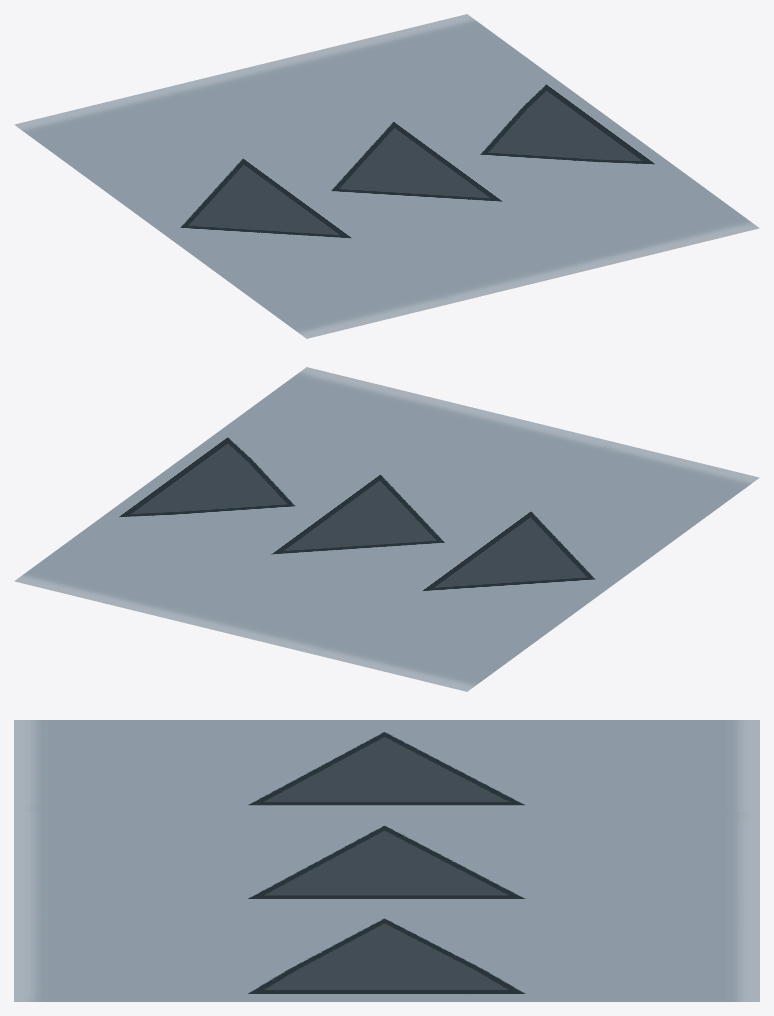
The model's file is ThePass_Scrolling.fbx.
3 views of the same model, one above another, from view 1: azimuth 30°, elevation 25°; view 2: azimuth 150°, elevation 25°; view 3: azimuth 270°, elevation 25° (orthographic). The views are drawn at different scales.
Parts seen in each view (by area): view 1: ThePass_Scrolling; view 2: ThePass_Scrolling; view 3: ThePass_Scrolling.
Boxes of the visible parts, x1=… form: ThePass_Scrolling: x1=14, y1=14, x2=759, y2=338; ThePass_Scrolling: x1=14, y1=367, x2=759, y2=691; ThePass_Scrolling: x1=14, y1=720, x2=759, y2=1001.
Size of the model in its own units: 1.8 by 0 by 2.01.
Materials: 1 (1 with a texture image).
